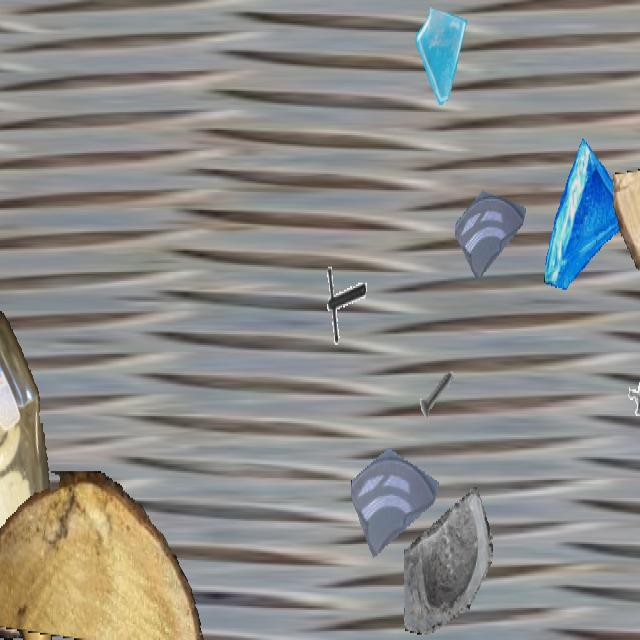glass: (542, 137, 636, 304), (404, 482, 492, 638), (351, 416, 439, 572), (455, 162, 527, 290), (414, 2, 472, 105)
metal: (318, 261, 366, 347), (416, 357, 458, 432), (0, 267, 19, 377), (622, 361, 640, 432)
plastic: (0, 2, 38, 634), (0, 311, 64, 638)
wood: (0, 471, 207, 638), (0, 450, 35, 638), (613, 162, 640, 282)
